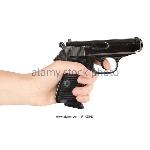Pistol: (52, 36, 144, 106)
